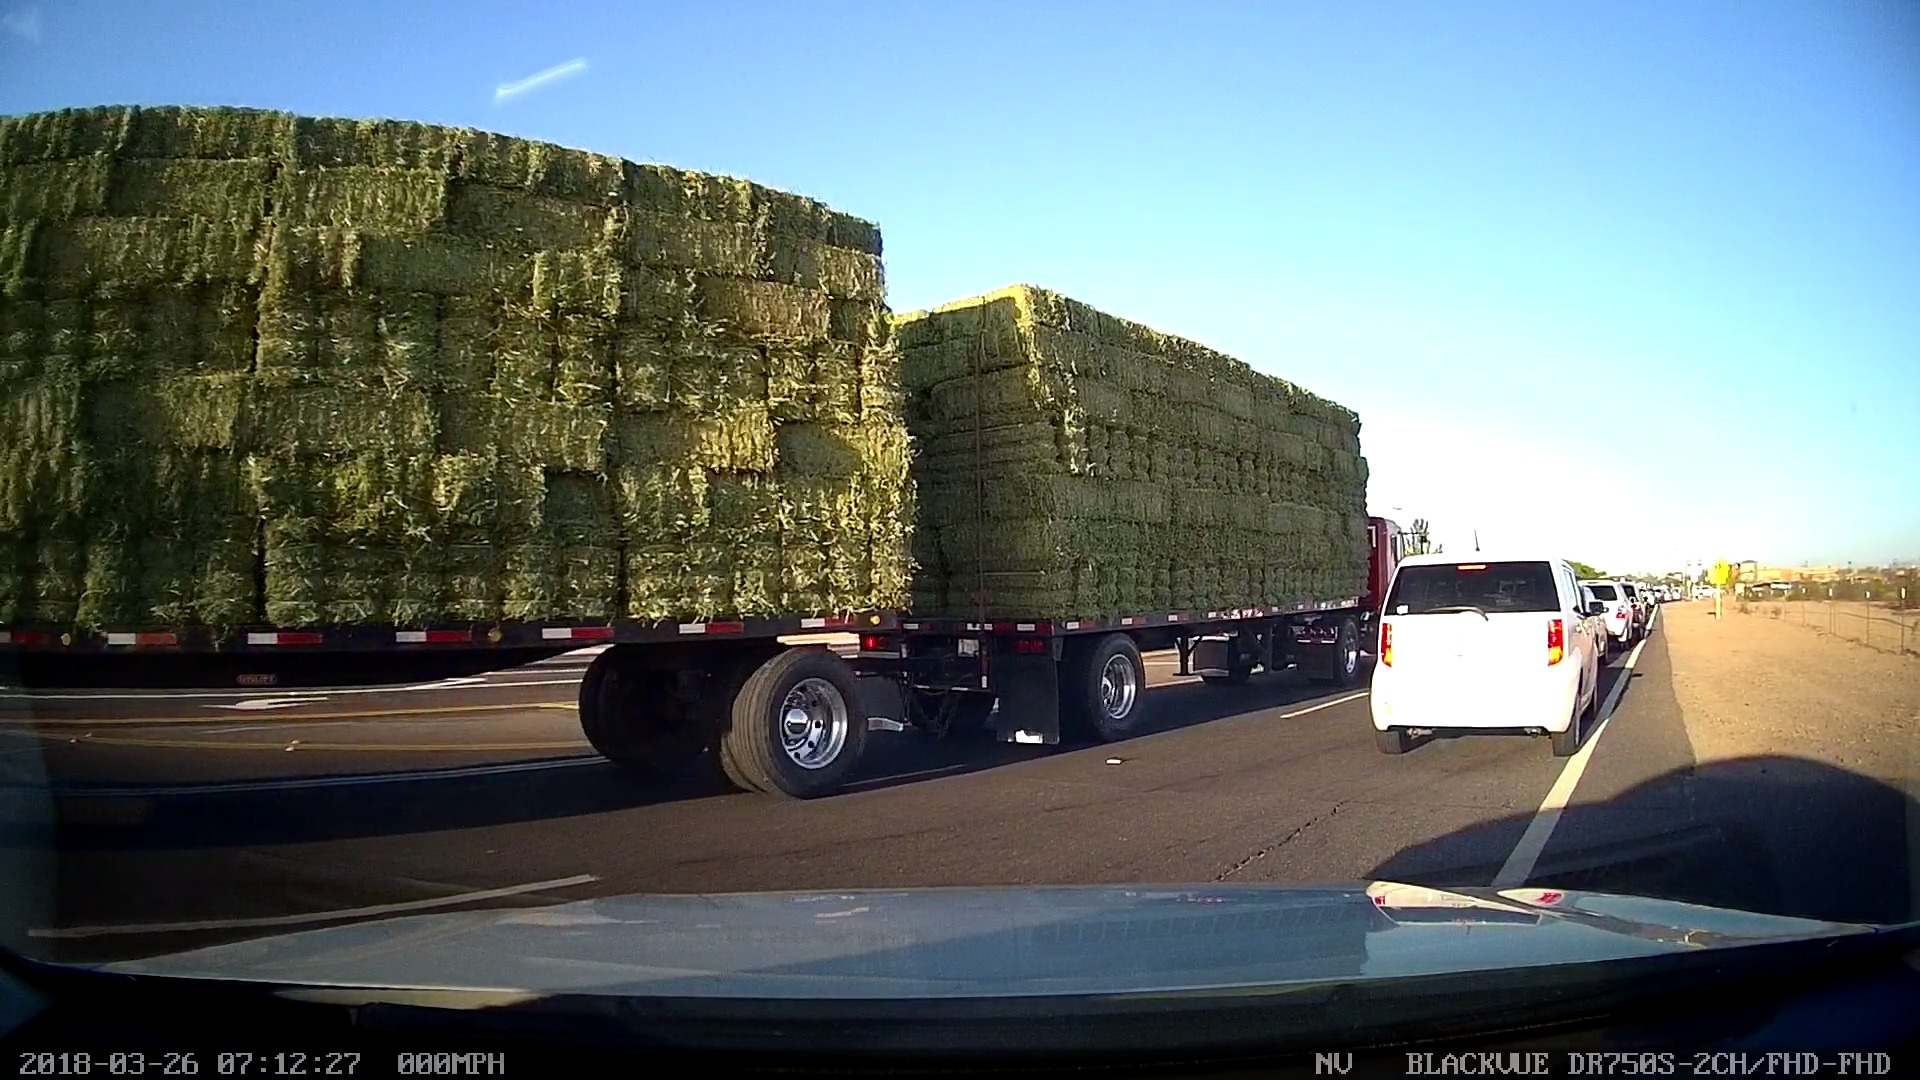vehicle: (4, 103, 1400, 789), (1371, 553, 1604, 753)
